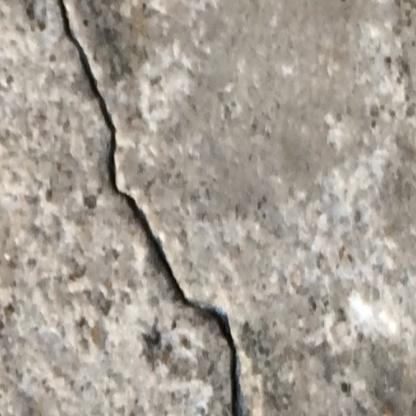Cracks: (54, 0, 252, 416)
